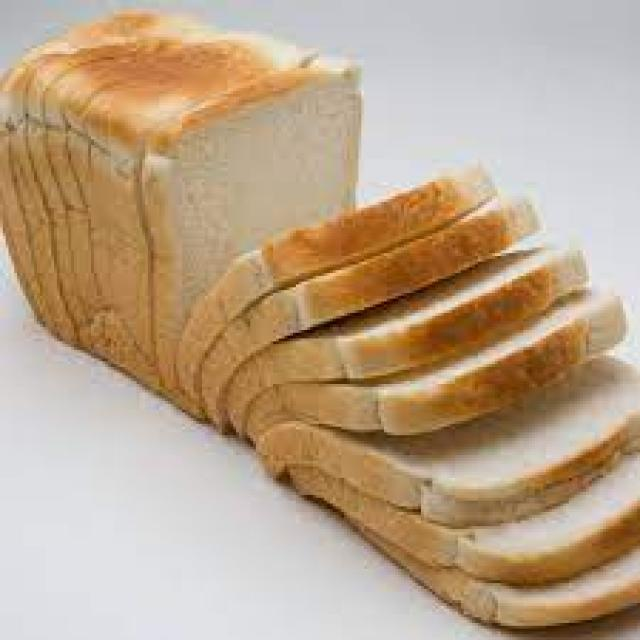Bread: (259, 359, 640, 527), (275, 256, 582, 383), (374, 305, 591, 434), (454, 455, 640, 583), (400, 549, 640, 628)
